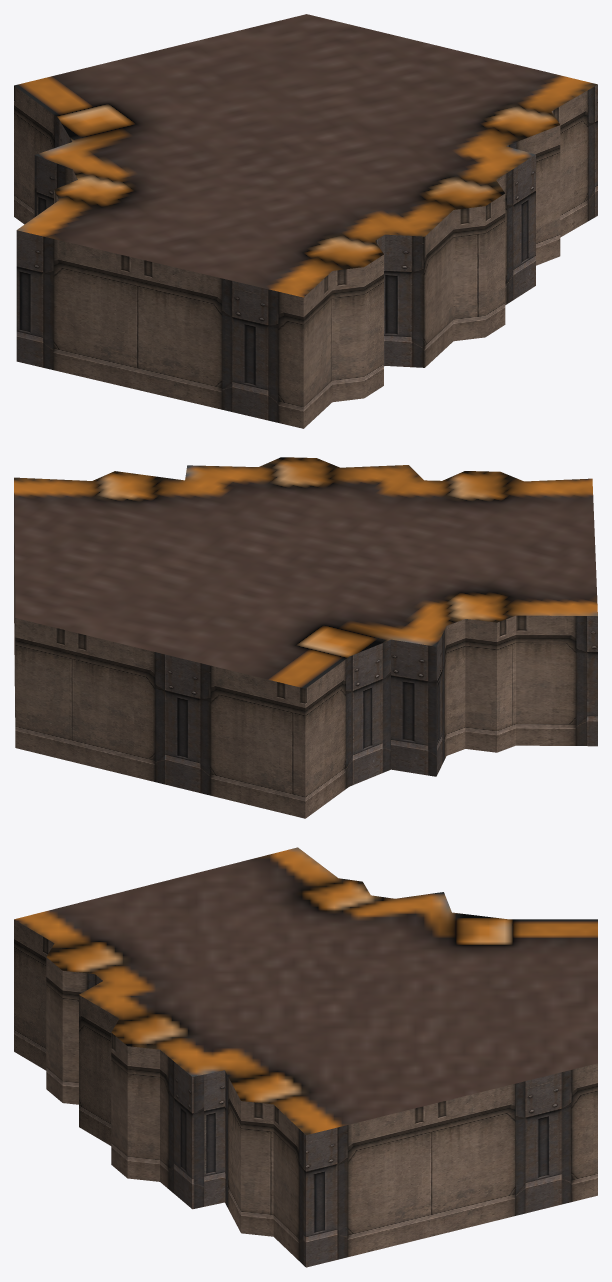
The model's file is heavy_roof19.glb.
The picture shows the model from 3 angles, top to bottom: view 1: azimuth 30°, elevation 25°; view 2: azimuth 150°, elevation 25°; view 3: azimuth 270°, elevation 25°; orthographic projection.
Visible parts, largest first — view 1: buildings/saxarba/heavy/heavy_roof19; view 2: buildings/saxarba/heavy/heavy_roof19; view 3: buildings/saxarba/heavy/heavy_roof19.
Part boxes in pixels (<box>): buildings/saxarba/heavy/heavy_roof19: <box>14,14,597,428</box>; buildings/saxarba/heavy/heavy_roof19: <box>14,457,597,818</box>; buildings/saxarba/heavy/heavy_roof19: <box>14,847,597,1267</box>.
Bounding box in the file's own units: 84 × 18 × 72.
